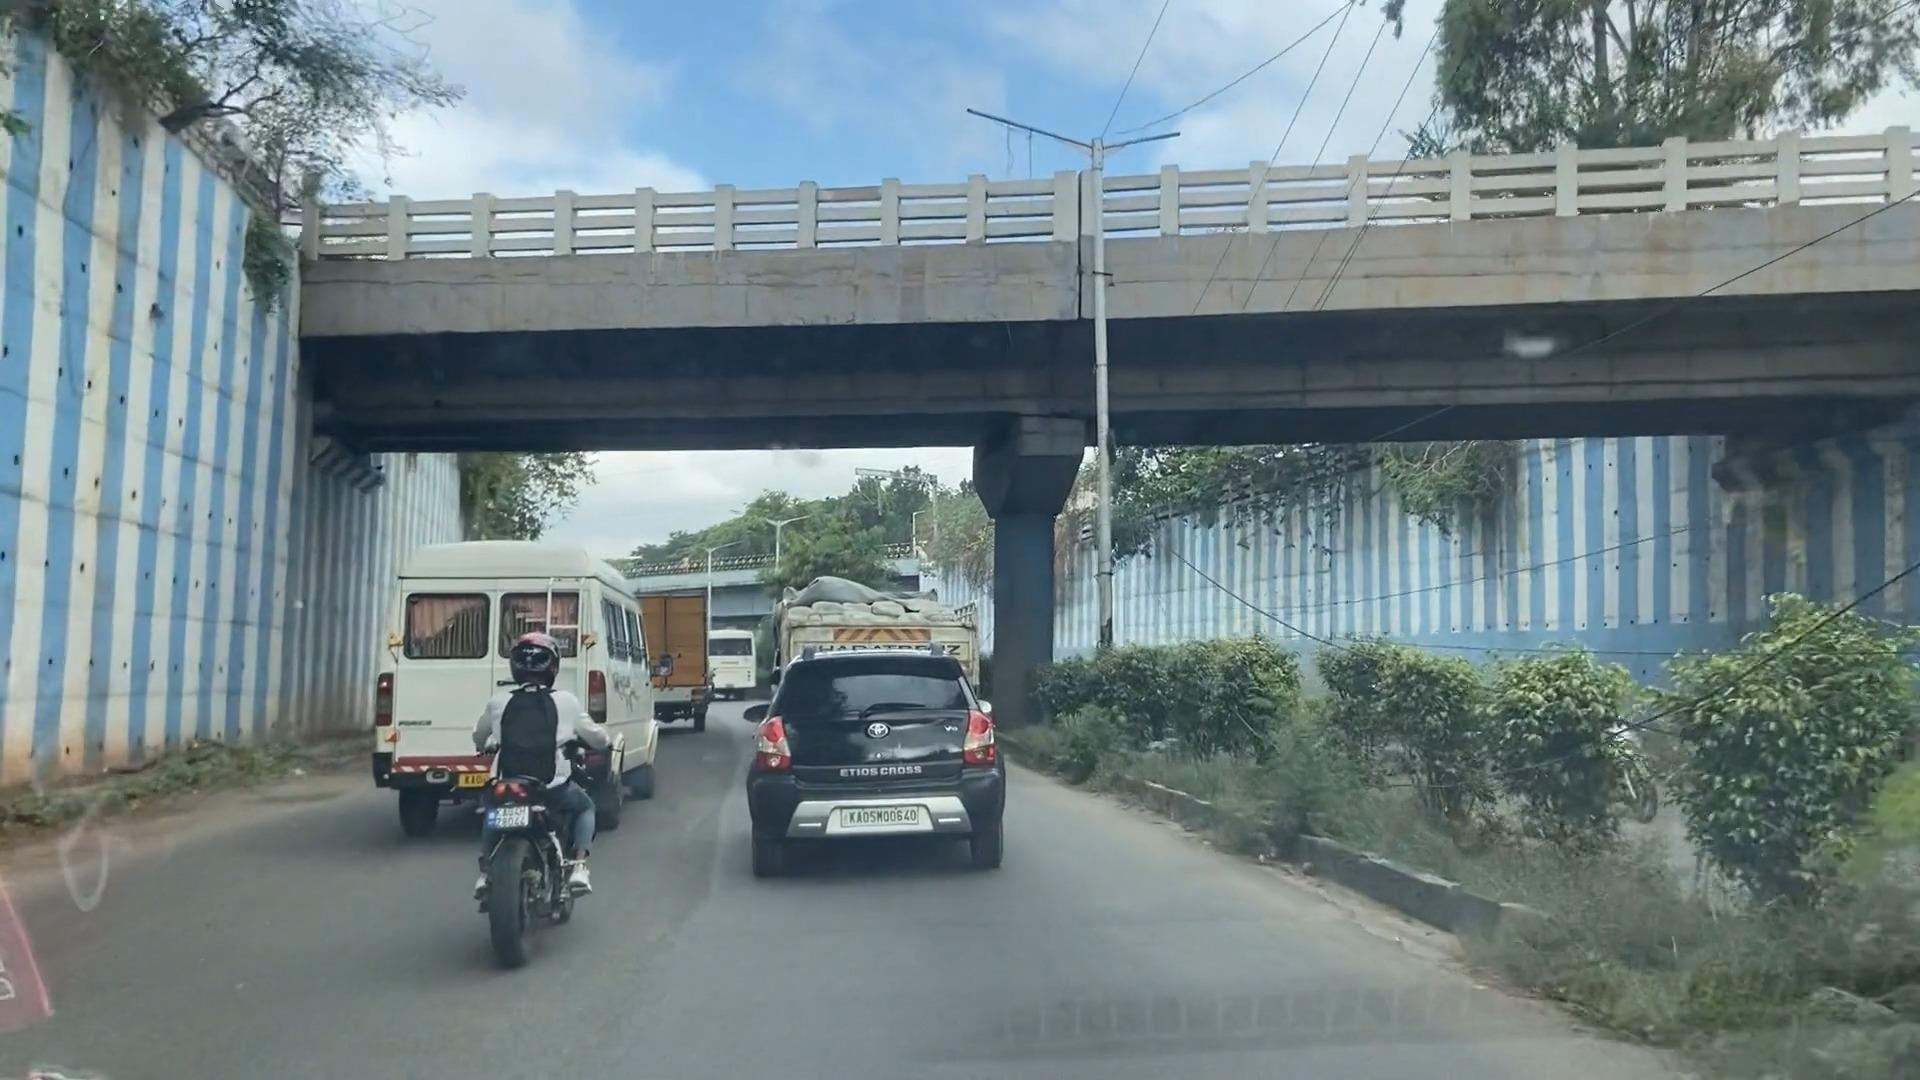HMV: (398, 538, 675, 807)
LMV: (746, 650, 998, 872), (481, 641, 609, 969)
